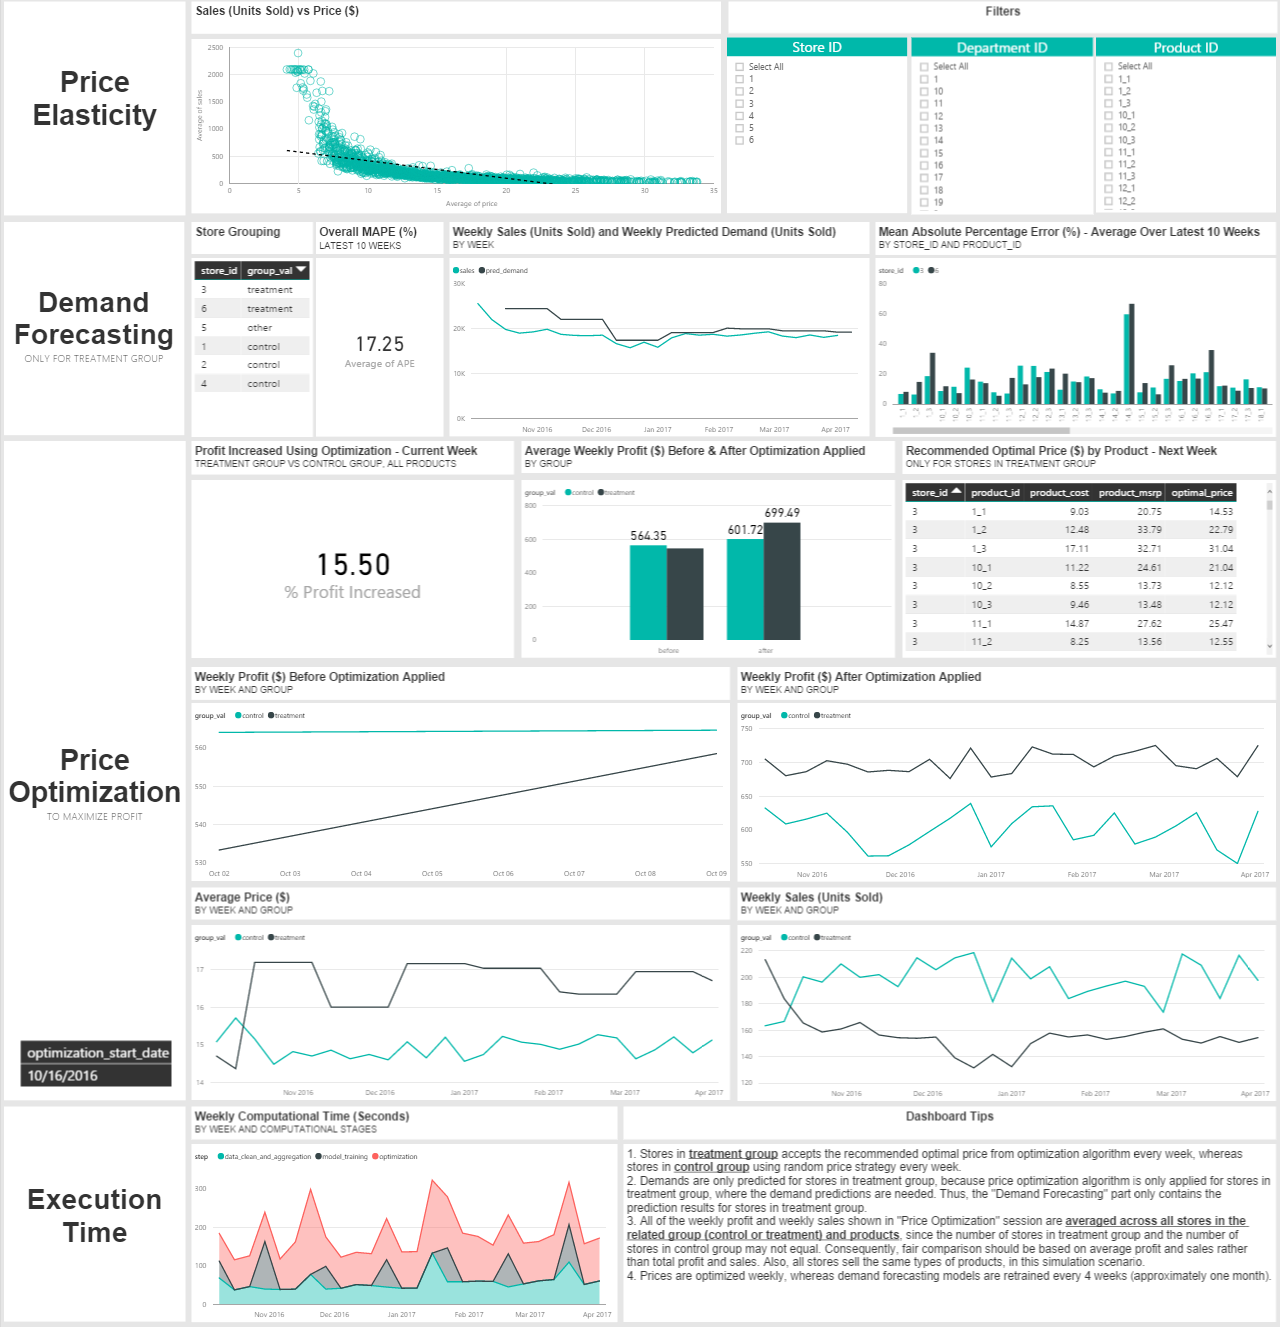

Layout of this report page (visuals, bound fields, positions):
{"tool":"powerbi","page":{"name":"RetailPriceOptimizationSolution","canvas":[2000,2050],"ordinal":0},"visuals":[{"type":"textbox","box":[4.7,7.8,280,330],"z":1},{"type":"scatterChart","fields":{"Y":["Avg(Sales_Aggregation.sales)"],"X":["Avg(Sales_Aggregation.price)"],"Category":["Sales_Aggregation.price"]},"box":[295,65,820,270],"z":1},{"type":"textbox","box":[5,348,279.5,330.7],"z":1},{"type":"lineChart","fields":{"Y":["Sum(Sales_Aggregation.sales)","Sum(Sales_Aggregation.pred_demand)"],"Category":["Sales_Aggregation.week_start"]},"box":[695,404.2,650,276.4],"z":1},{"type":"textbox","box":[5,688,279.7,1010],"z":1},{"type":"lineChart","fields":{"Category":["Sales_Aggregation.week_start"],"Series":["Sales_Aggregation.group_val"],"Y":["Avg(Sales_Aggregation.profit_after)"]},"box":[1140,1088,835,277],"z":1},{"type":"textbox","box":[5,1712,281,333],"z":1},{"type":"stackedAreaChart","fields":{"Category":["Execution_Time.exec_date"],"Y":["Sum(Execution_Time.time)"],"Series":["Execution_Time.step"]},"box":[295,1769,660,276],"z":1},{"type":"slicer","fields":{"Values":["Sales_Aggregation.store_id"]},"box":[1125,62,278.7,272],"z":2},{"type":"lineChart","fields":{"Y":["Avg(Sales_Aggregation.profit_before)"],"Series":["Sales_Aggregation.group_val"],"Category":["Sales_Aggregation.week_start"]},"box":[295,1088,835,276],"z":2},{"type":"textbox","box":[295,7.8,820,49.7],"z":3},{"type":"textbox","box":[1126,8,850.2,48.8],"z":3},{"type":"slicer","fields":{"Values":["Sales_Aggregation.department_id"]},"box":[1410,62,280,272],"z":3},{"type":"textbox","box":[295,348,187,50],"z":3},{"type":"textbox","box":[488,348,197,50],"z":3},{"type":"textbox","box":[1355,348,620,51.1],"z":3},{"type":"textbox","box":[695,348.4,650,50],"z":3},{"type":"textbox","box":[295.2,688,500,52.4],"z":3},{"type":"textbox","box":[805,688,580,50],"z":3},{"type":"textbox","box":[1395,688,580,52.4],"z":3},{"type":"textbox","box":[295,1031,835,51.1],"z":3},{"type":"textbox","box":[1140,1031,835,51.1],"z":3},{"type":"textbox","box":[295,1373,835,50],"z":3},{"type":"textbox","box":[1140,1373,835,51.1],"z":3},{"type":"textbox","box":[295,1712,660,51.1],"z":3},{"type":"textbox","box":[965,1712,1010,51.1],"z":3},{"type":"slicer","fields":{"Values":["Sales_Aggregation.product_id"]},"box":[1695,62,280,272],"z":4},{"type":"table","fields":{"Values":["Sales_Aggregation.store_id","Sales_Aggregation.group_val"]},"box":[295,404,187,276],"z":5},{"type":"lineChart","fields":{"Category":["Sales_Aggregation.week_start"],"Series":["Sales_Aggregation.group_val"],"Y":["Avg(Sales_Aggregation.price)"]},"box":[295,1432,835,272],"z":5},{"type":"lineChart","fields":{"Category":["Sales_Aggregation.week_start"],"Y":["Avg(Sales_Aggregation.sales)"],"Series":["Sales_Aggregation.group_val"]},"box":[1140,1432,835,273],"z":5},{"type":"clusteredColumnChart","fields":{"Y":["Avg(Sales_Aggregation.APE)"],"Category":["Sales_Aggregation.department_id","Sales_Aggregation.product_id"],"Series":["Sales_Aggregation.store_id"]},"box":[1355,404,620,277],"z":6},{"type":"table","fields":{"Values":["Sales_Aggregation.store_id","Sales_Aggregation.product_id","Sales_Aggregation.product_cost","Sales_Aggregation.product_msrp","Sales_Aggregation.optimal_price"]},"box":[1395,747,580,276.2],"z":6},{"type":"card","fields":{"Values":["Avg(Sales_Aggregation.APE)"]},"box":[488,404,197,276],"z":8},{"type":"textbox","box":[965,1769,1010,276],"z":27},{"type":"clusteredColumnChart","fields":{"Series":["Sales_Aggregation.group_val"],"Category":["Sales_Aggregation.is_after_optimization_start"],"Y":["Avg(Sales_Aggregation.profit)"]},"box":[805,747,580,276.2],"z":29},{"type":"card","fields":{"Values":["Sum(Profit_Improvement_Calculation.Profit Increased)"]},"box":[295,747,500,276],"z":35},{"type":"matrix","fields":{"Rows":["Sales_Aggregation.optimization_start_date"]},"box":[25.6,1605.1,243.9,102.2],"z":37}]}

Visuals, with their boxes in screenshot pixels (x1, y1, x2, y2), scaled from the page's 2000x2050 canvas onto the 1281x1327 screenshot:
textbox: (3,5,182,219)
scatterChart - Avg(Sales_Aggregation.sales) x Avg(Sales_Aggregation.price): (189,42,714,217)
textbox: (3,225,182,439)
lineChart - Sum(Sales_Aggregation.sales) x Sum(Sales_Aggregation.pred_demand): (445,262,861,441)
textbox: (3,445,182,1099)
lineChart - Sales_Aggregation.week_start x Sales_Aggregation.group_val: (730,704,1265,884)
textbox: (3,1108,183,1324)
stackedAreaChart - Execution_Time.exec_date x Sum(Execution_Time.time): (189,1145,612,1324)
slicer - Sales_Aggregation.store_id: (721,40,899,216)
lineChart - Avg(Sales_Aggregation.profit_before) x Sales_Aggregation.group_val: (189,704,724,883)
textbox: (189,5,714,37)
textbox: (721,5,1266,37)
slicer - Sales_Aggregation.department_id: (903,40,1082,216)
textbox: (189,225,309,258)
textbox: (313,225,439,258)
textbox: (868,225,1265,258)
textbox: (445,226,861,258)
textbox: (189,445,509,479)
textbox: (516,445,887,478)
textbox: (893,445,1265,479)
textbox: (189,667,724,700)
textbox: (730,667,1265,700)
textbox: (189,889,724,921)
textbox: (730,889,1265,922)
textbox: (189,1108,612,1141)
textbox: (618,1108,1265,1141)
slicer - Sales_Aggregation.product_id: (1086,40,1265,216)
table - Sales_Aggregation.store_id x Sales_Aggregation.group_val: (189,262,309,440)
lineChart - Sales_Aggregation.week_start x Sales_Aggregation.group_val: (189,927,724,1103)
lineChart - Sales_Aggregation.week_start x Avg(Sales_Aggregation.sales): (730,927,1265,1104)
clusteredColumnChart - Avg(Sales_Aggregation.APE) x Sales_Aggregation.department_id: (868,262,1265,441)
table - Sales_Aggregation.store_id x Sales_Aggregation.product_id: (893,484,1265,662)
card - Avg(Sales_Aggregation.APE): (313,262,439,440)
textbox: (618,1145,1265,1324)
clusteredColumnChart - Sales_Aggregation.group_val x Sales_Aggregation.is_after_optimization_start: (516,484,887,662)
card - Sum(Profit_Improvement_Calculation.Profit Increased): (189,484,509,662)
matrix - Sales_Aggregation.optimization_start_date: (16,1039,173,1105)
